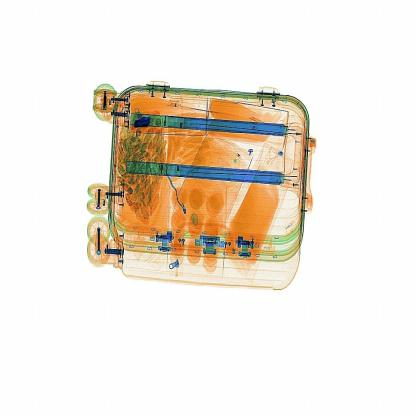knife: (127, 107, 163, 144)
